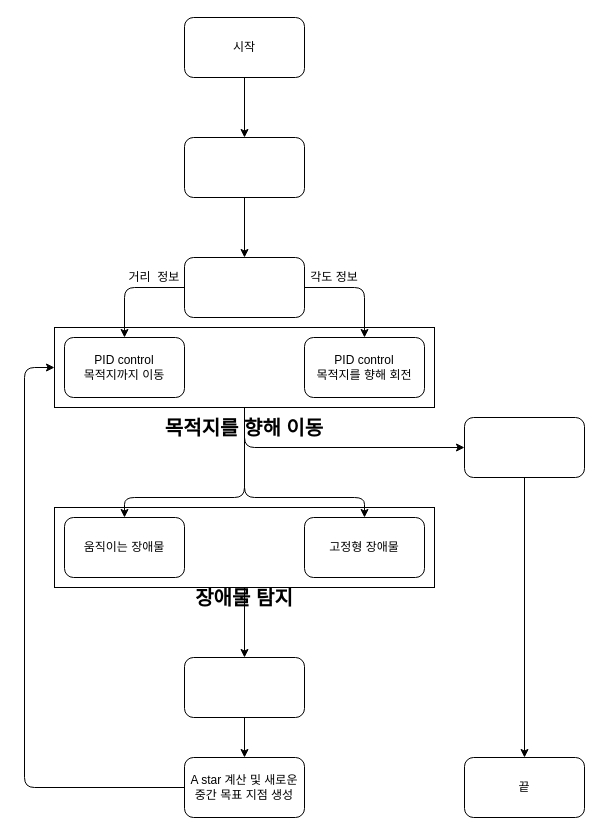
Some shapes in this 602 by 835 pixel diagram are drawn without their labels. The centre of each missing label's shape, as x and y in pixels:
목적 위치 수신: the point at 244,287
위치 정보 계산: the point at 244,167
장애물 주위 가중치 설정: the point at 244,687
최종 목표 지점 도착: the point at 524,447
